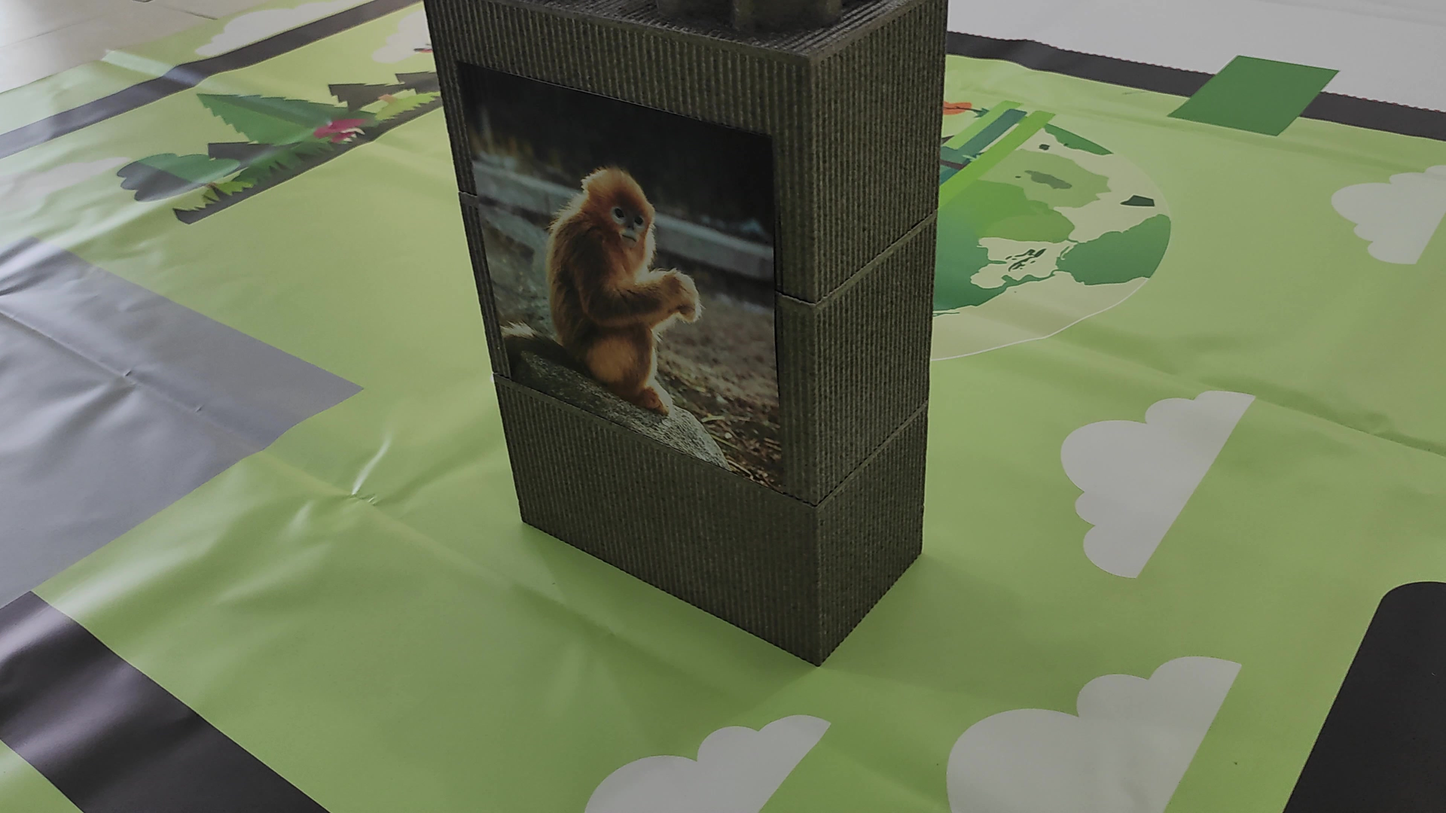monkey: (518, 134, 722, 431)
